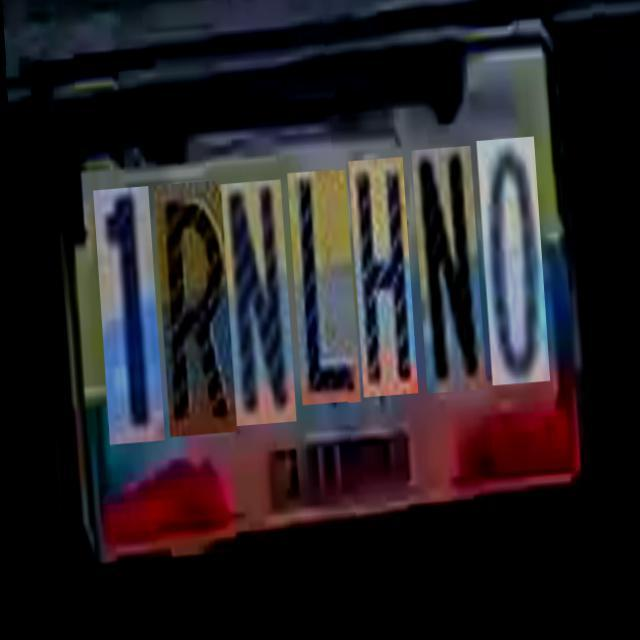1: (90, 188, 158, 446)
H: (345, 163, 412, 402)
L: (284, 174, 356, 410)
N: (408, 152, 481, 399), (218, 184, 291, 430)
O: (474, 144, 544, 392)
R: (151, 184, 231, 440)
